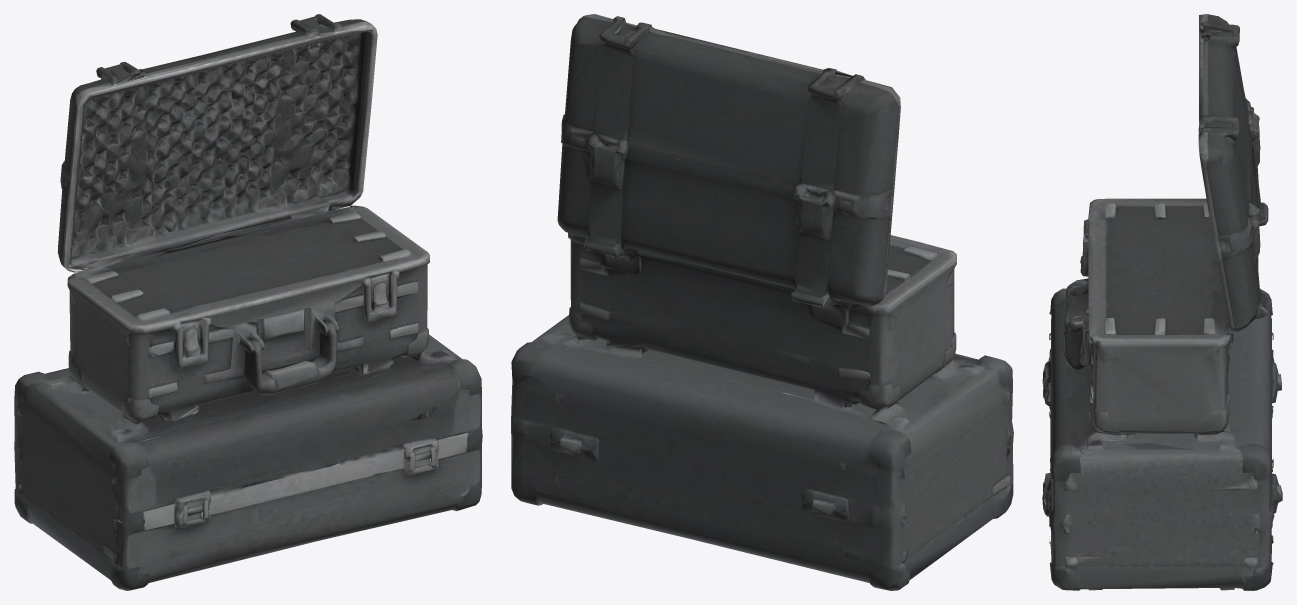
File: bkCases.glb
The picture shows the model from 3 angles, left to right: view 1: azimuth 30°, elevation 25°; view 2: azimuth 150°, elevation 25°; view 3: azimuth 270°, elevation 25°; orthographic projection. The views are drawn at different scales.
Bounding box in the file's own units: 1.61 × 1.9 × 0.943.
Materials: 1 (1 with a texture image).
